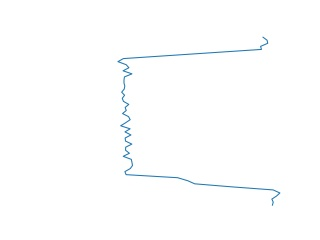distributaryChannelFill: (112, 36, 284, 207)
